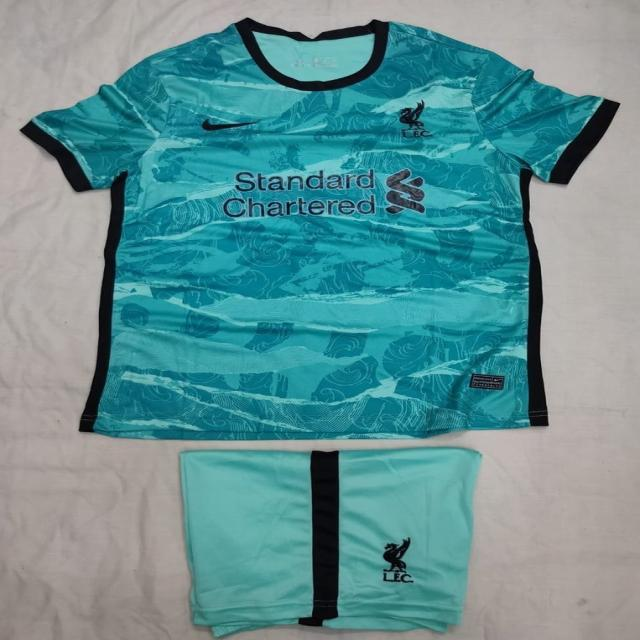Nike: (198, 112, 264, 134)
Standard Chartered: (223, 169, 428, 222)
